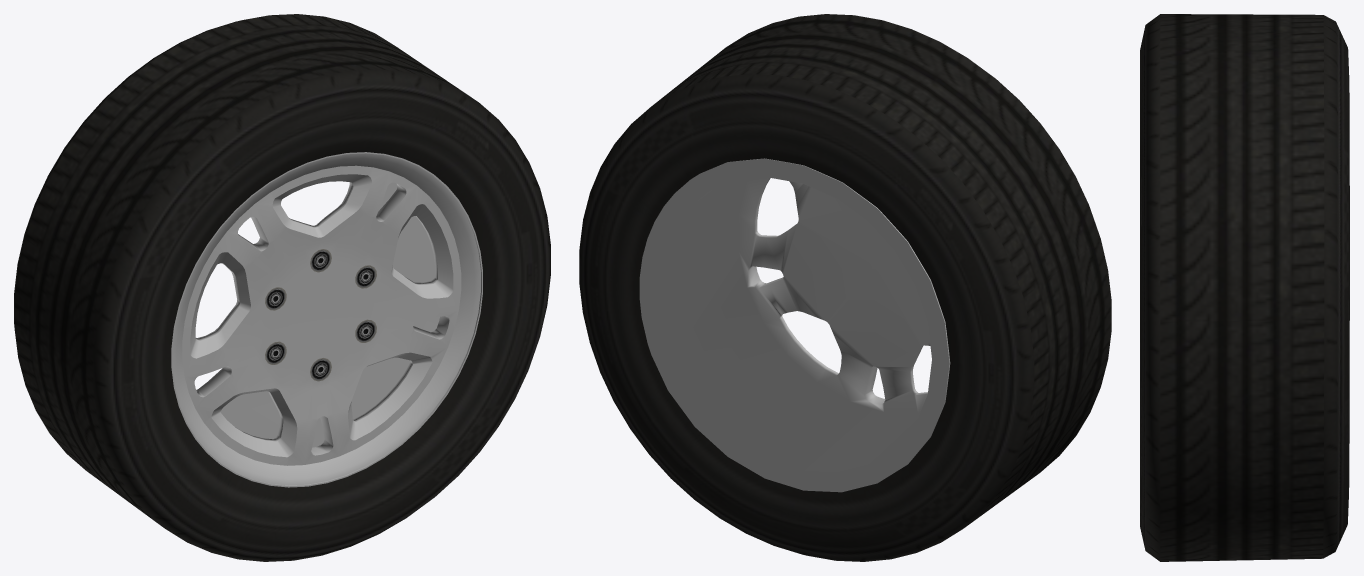
3 views of the same model, side by side, from view 1: azimuth 30°, elevation 25°; view 2: azimuth 150°, elevation 25°; view 3: azimuth 270°, elevation 25° (orthographic). The views are drawn at different scales.
Visible parts, largest first — view 1: U805_4A_901C_R_U805_4A_901C_R_3_DM, U805_4A_901C_R_U805_4A_901C_R_2_DaS, U805_4A_901C_R_1_D_U805_4A_901C_R; view 2: U805_4A_901C_R_U805_4A_901C_R_3_DM, U805_4A_901C_R_U805_4A_901C_R_2_DaS; view 3: U805_4A_901C_R_U805_4A_901C_R_3_DM.
Part boxes in pixels (left/top/right/bottom): U805_4A_901C_R_U805_4A_901C_R_3_DM: left=14, top=14, right=550, bottom=561; U805_4A_901C_R_U805_4A_901C_R_2_DaS: left=171, top=152, right=482, bottom=487; U805_4A_901C_R_1_D_U805_4A_901C_R: left=265, top=249, right=376, bottom=381; U805_4A_901C_R_U805_4A_901C_R_3_DM: left=579, top=14, right=1111, bottom=561; U805_4A_901C_R_U805_4A_901C_R_2_DaS: left=639, top=158, right=950, bottom=492; U805_4A_901C_R_U805_4A_901C_R_3_DM: left=1140, top=14, right=1349, bottom=561.
Size of the model in its own units: 70.79 by 70.84 by 27.06.
